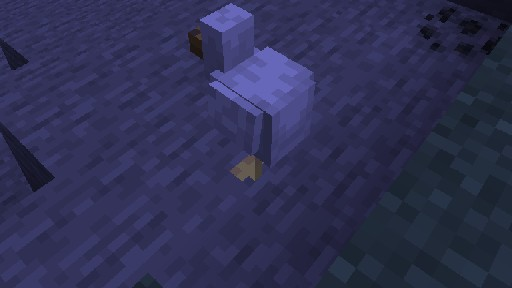chicken: (187, 2, 315, 181)
